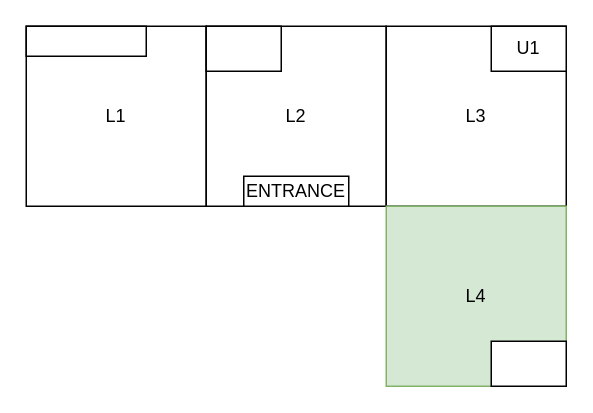
This 593x413 diagram has some shape labels left out. Here are the shapes that lost their labels. From the top down, the centre of each, then its label:
At (x=85, y=40): "WAREHOUSE".
At (x=243, y=48): "U3".
At (x=528, y=363): "U2".
